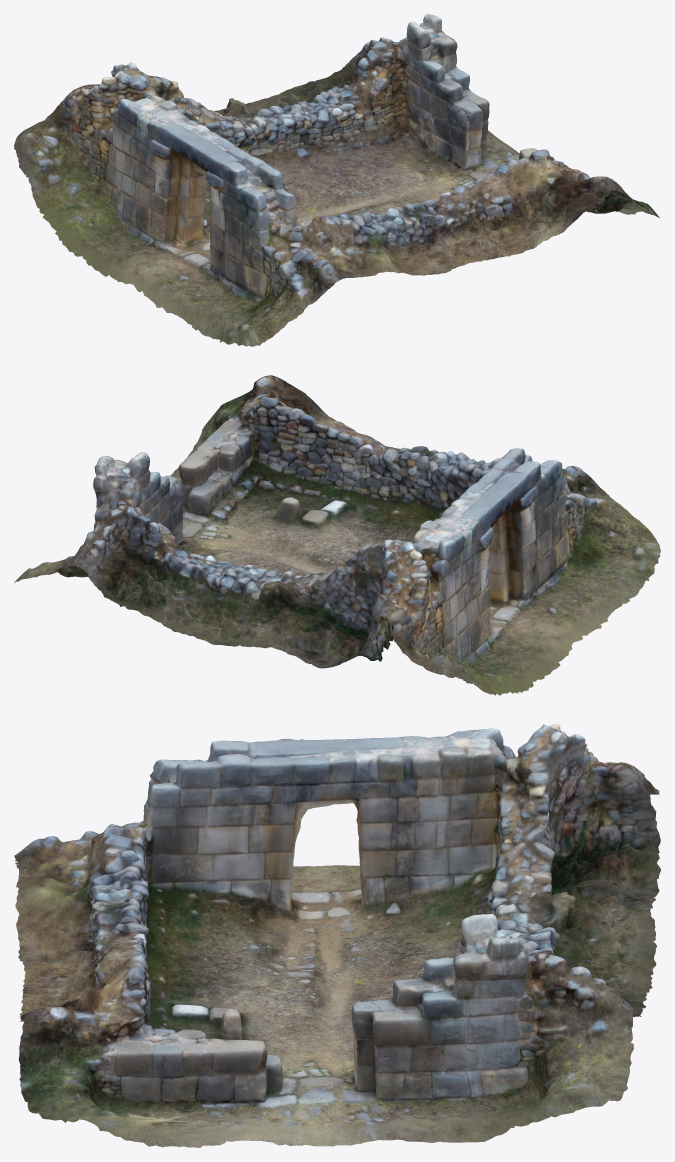
File: portada.glb
3 views of the same model, one above another, from view 1: azimuth 30°, elevation 25°; view 2: azimuth 150°, elevation 25°; view 3: azimuth 270°, elevation 25° (orthographic). The views are drawn at different scales.
Visible parts, largest first — view 1: Model; view 2: Model; view 3: Model.
Boxes of the visible parts, left/top/right/bottom form: Model: left=14, top=14, right=659, bottom=346; Model: left=14, top=375, right=660, bottom=695; Model: left=14, top=724, right=660, bottom=1147.
Bounding box in the file's own units: 12.37 × 3.83 × 11.13.
1 material, 1 textured.
